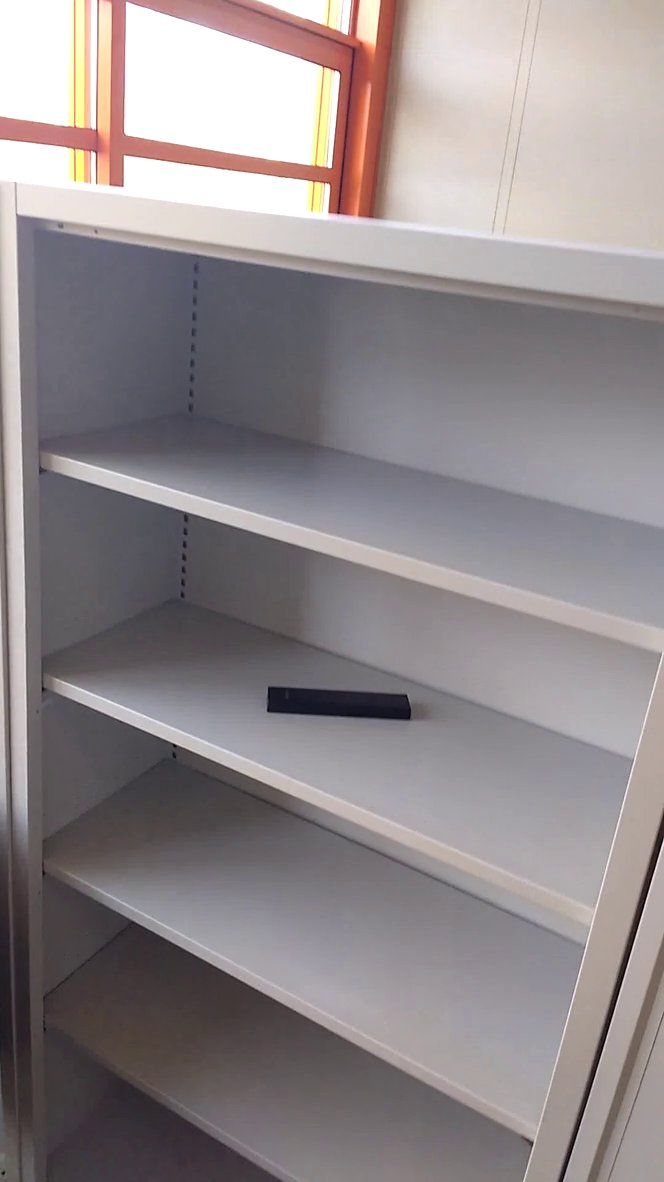remote: (260, 674, 430, 751)
